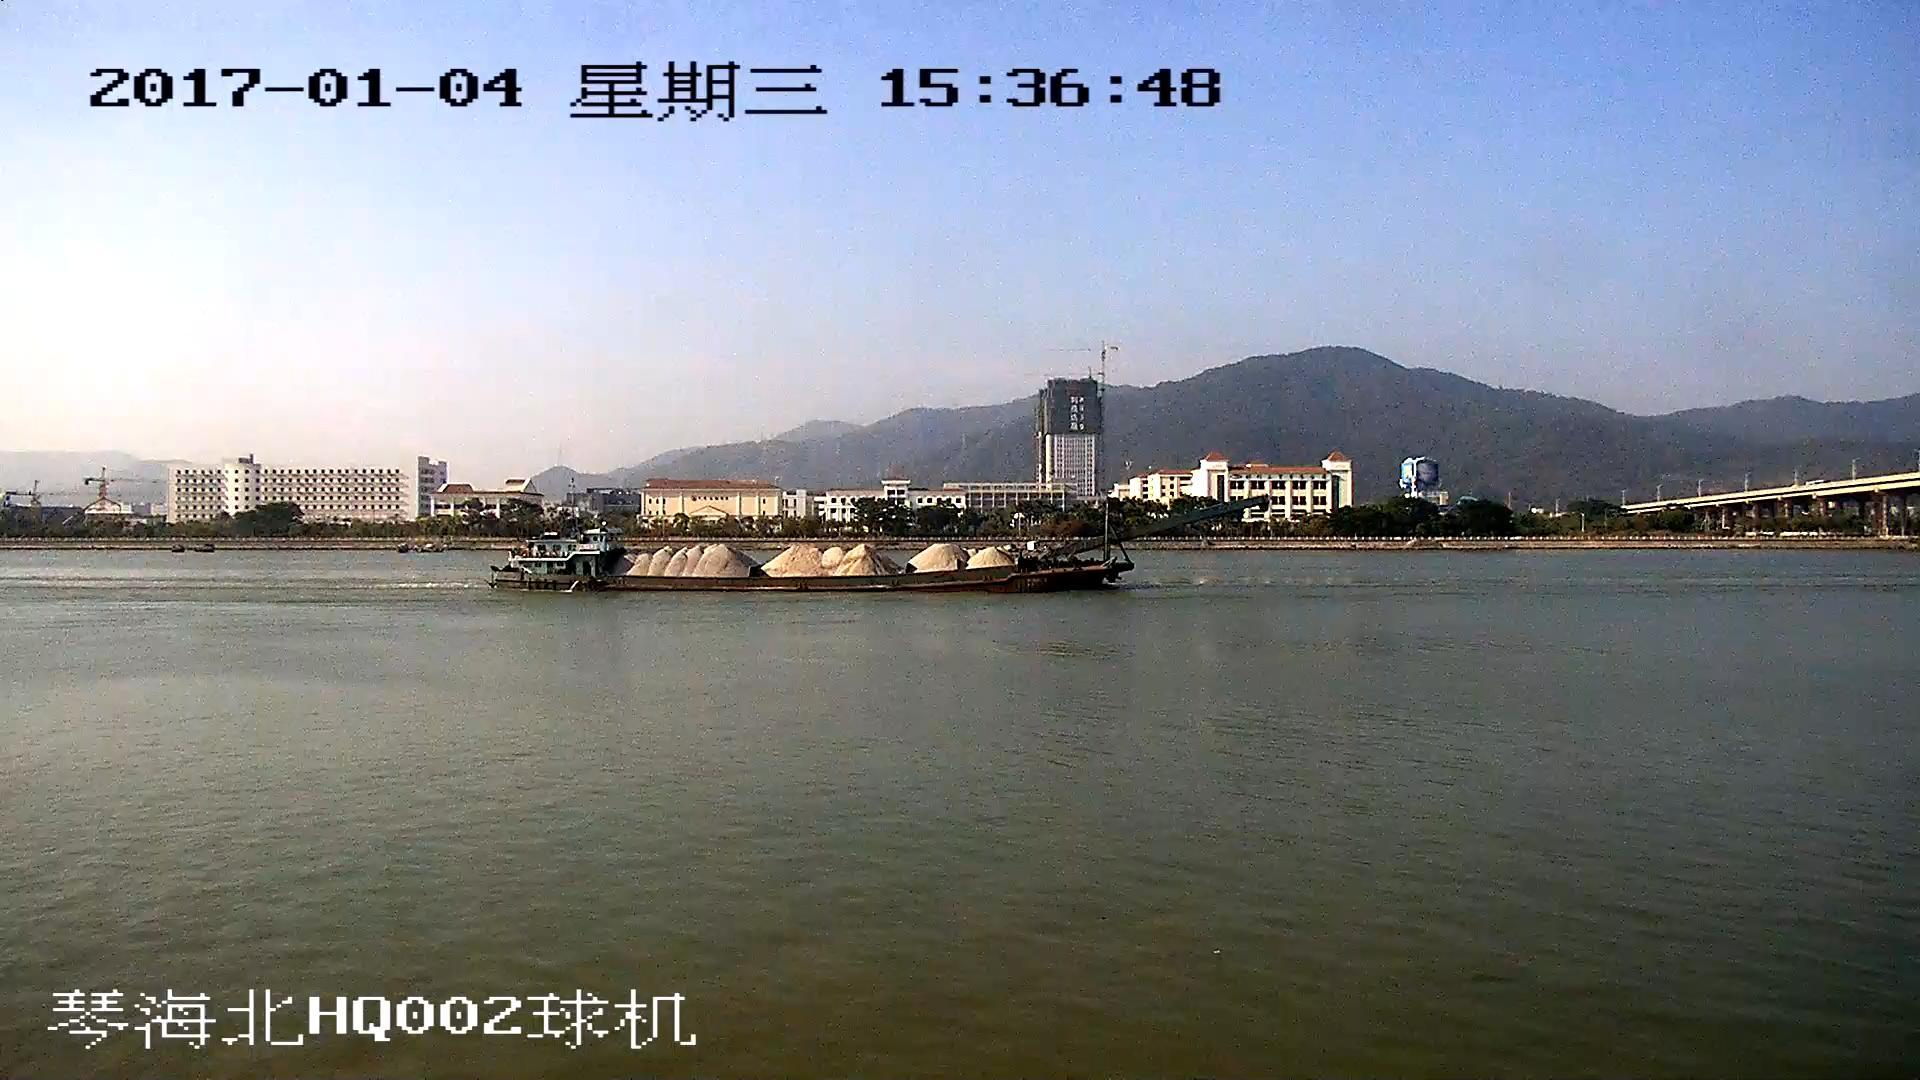Ship: (488, 501, 1269, 593)
